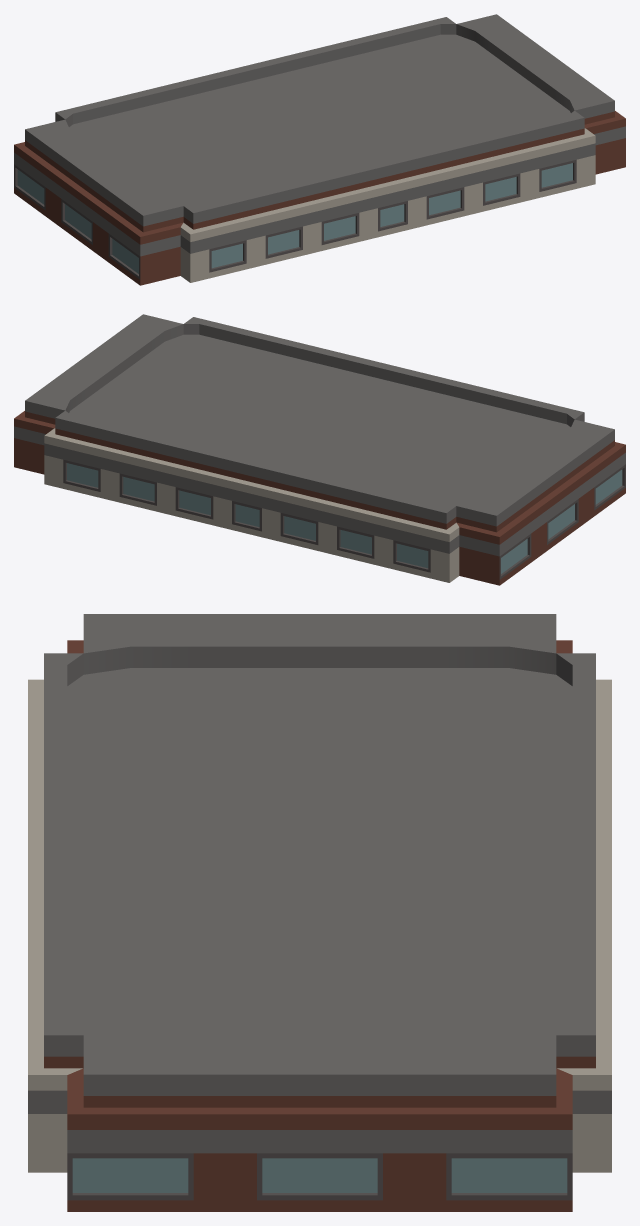
File: Long_S2_Top.fbx
The picture shows the model from 3 angles, top to bottom: view 1: azimuth 30°, elevation 25°; view 2: azimuth 150°, elevation 25°; view 3: azimuth 270°, elevation 25°; orthographic projection. The views are drawn at different scales.
Visible parts, largest first — view 1: Long_S2_Top; view 2: Long_S2_Top; view 3: Long_S2_Top.
Boxes of the visible parts, box(x1,y1,x2,y2) form: Long_S2_Top: box(14, 14, 625, 285); Long_S2_Top: box(14, 314, 625, 585); Long_S2_Top: box(28, 614, 611, 1211).
Size of the model in its own units: 5220 by 670 by 2718.
